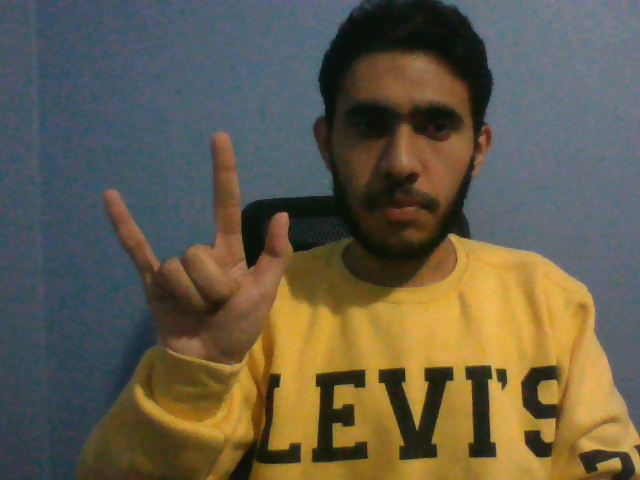iloveyou: (101, 125, 295, 371)
